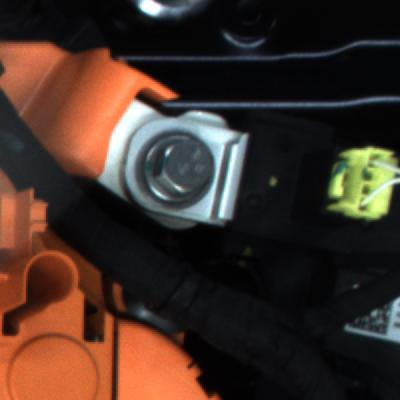nut_b: (134, 127, 235, 214)
